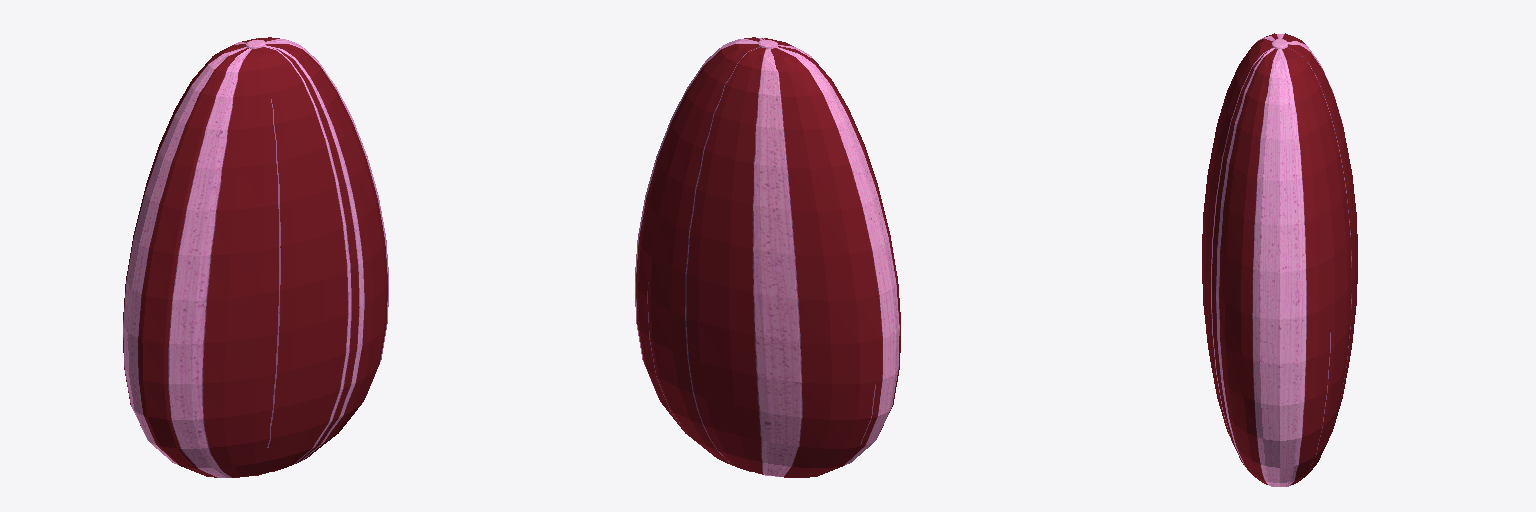
3 views of the same model, side by side, from view 1: azimuth 30°, elevation 25°; view 2: azimuth 150°, elevation 25°; view 3: azimuth 270°, elevation 25° (orthographic).
Parts seen in each view (by area): view 1: Sunflower_Seed_Low_Poly:Mesh; view 2: Sunflower_Seed_Low_Poly:Mesh; view 3: Sunflower_Seed_Low_Poly:Mesh.
Boxes of the visible parts, x1,y1,x2,y2 form: Sunflower_Seed_Low_Poly:Mesh: [123, 37, 388, 477]; Sunflower_Seed_Low_Poly:Mesh: [635, 37, 900, 477]; Sunflower_Seed_Low_Poly:Mesh: [1202, 33, 1357, 486].
Bounding box in the file's own units: 1.82 × 2.9 × 0.965.
1 materials, 1 textured.